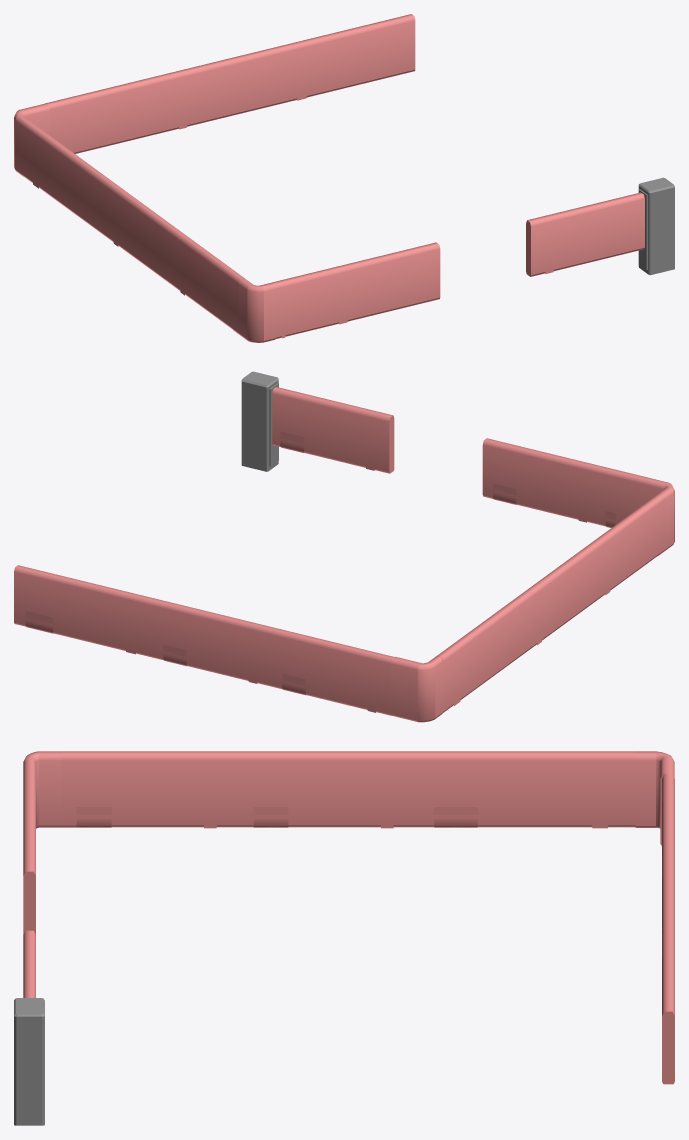
The model's file is S_Envi_Laboratory_Building_009.gltf.
3 renders of one model, top to bottom at view 1: azimuth 30°, elevation 25°; view 2: azimuth 150°, elevation 25°; view 3: azimuth 270°, elevation 25°, orthographic. The views are drawn at different scales.
Visible parts, largest first — view 1: S_Envi_Laboratory_Building_009; view 2: S_Envi_Laboratory_Building_009; view 3: S_Envi_Laboratory_Building_009.
Part boxes in pixels (x1,y1,x2,y2): S_Envi_Laboratory_Building_009: (14, 14, 674, 342); S_Envi_Laboratory_Building_009: (14, 371, 674, 722); S_Envi_Laboratory_Building_009: (14, 751, 674, 1125).
Bounding box in the file's own units: 9.37 × 1.79 × 9.63.
